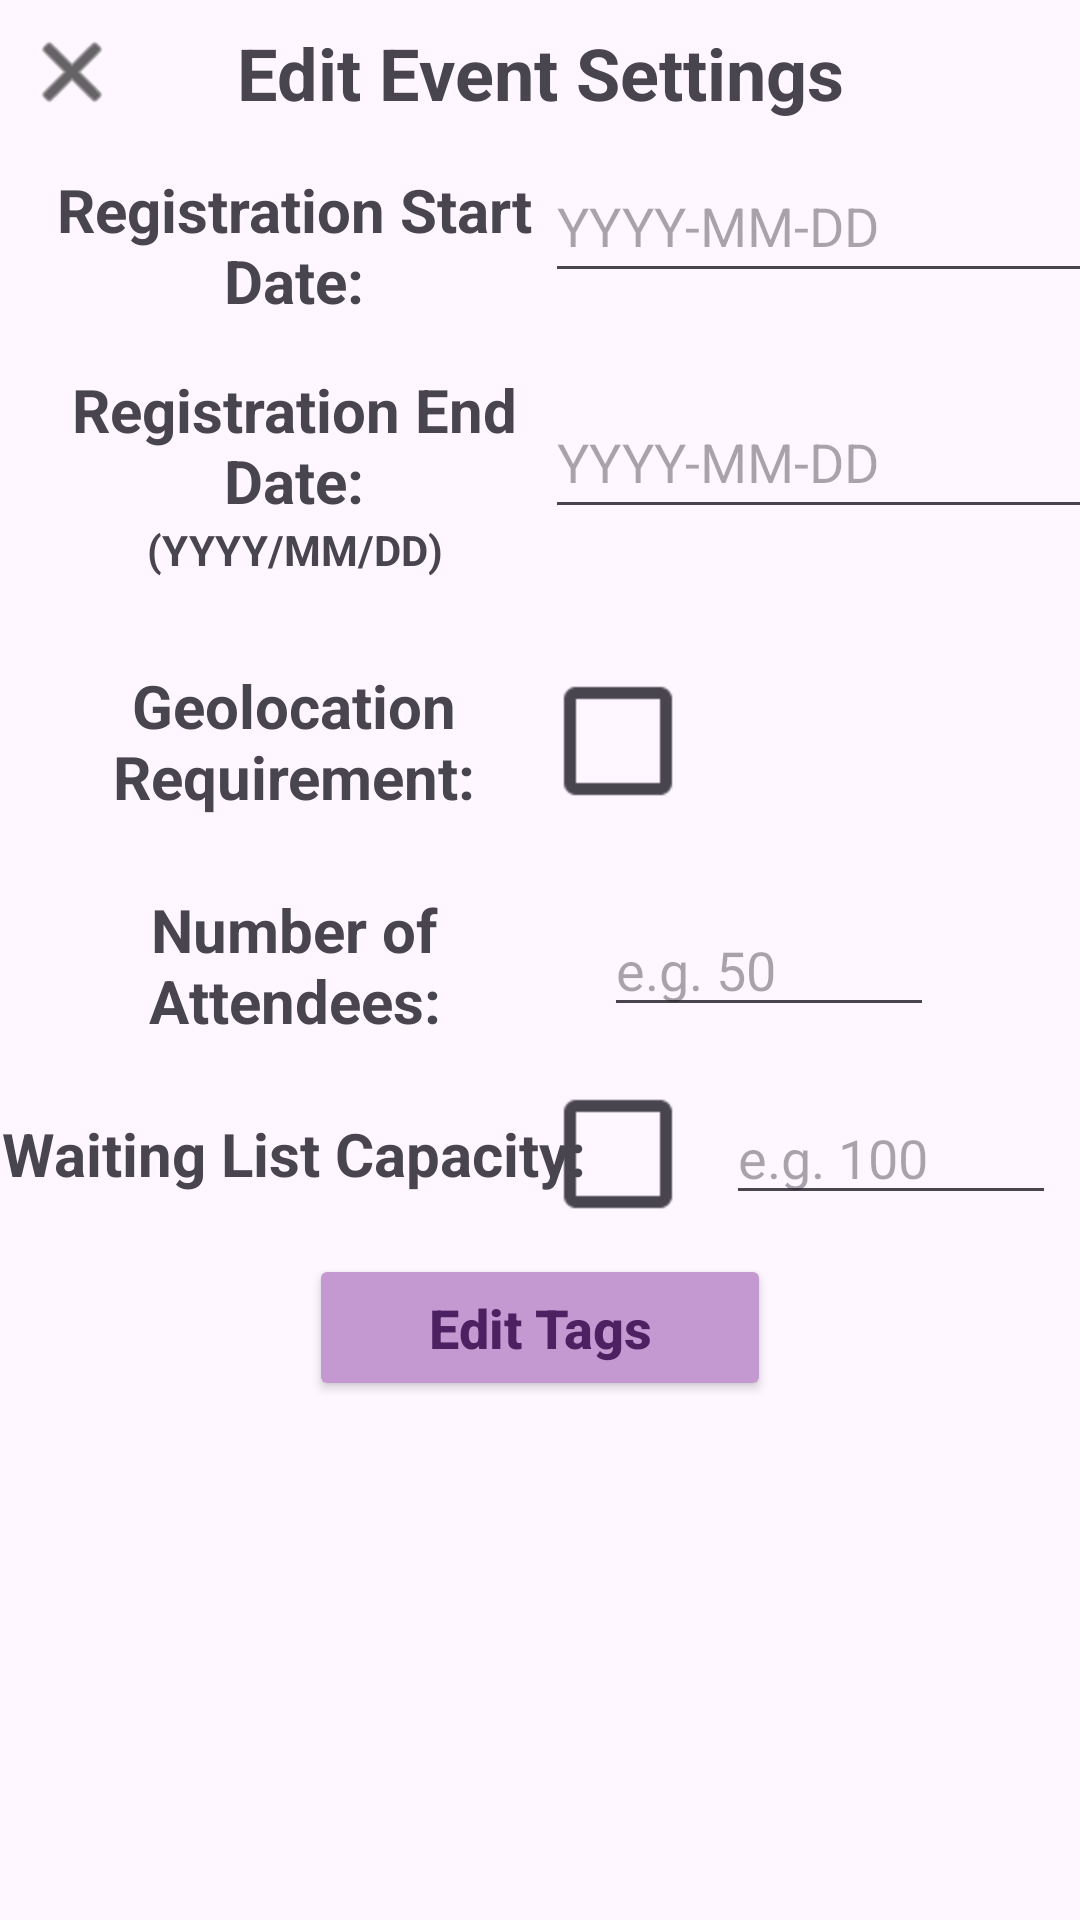

Where icons sit on this 1080x1920 app screen, as (x1, y1, x2, y2):
close clear cancel: (42, 42, 102, 102)
